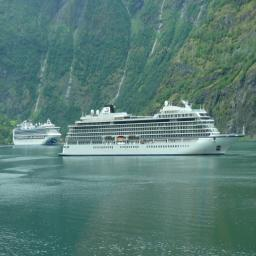cruises: (58, 102, 249, 161), (13, 118, 63, 148)
